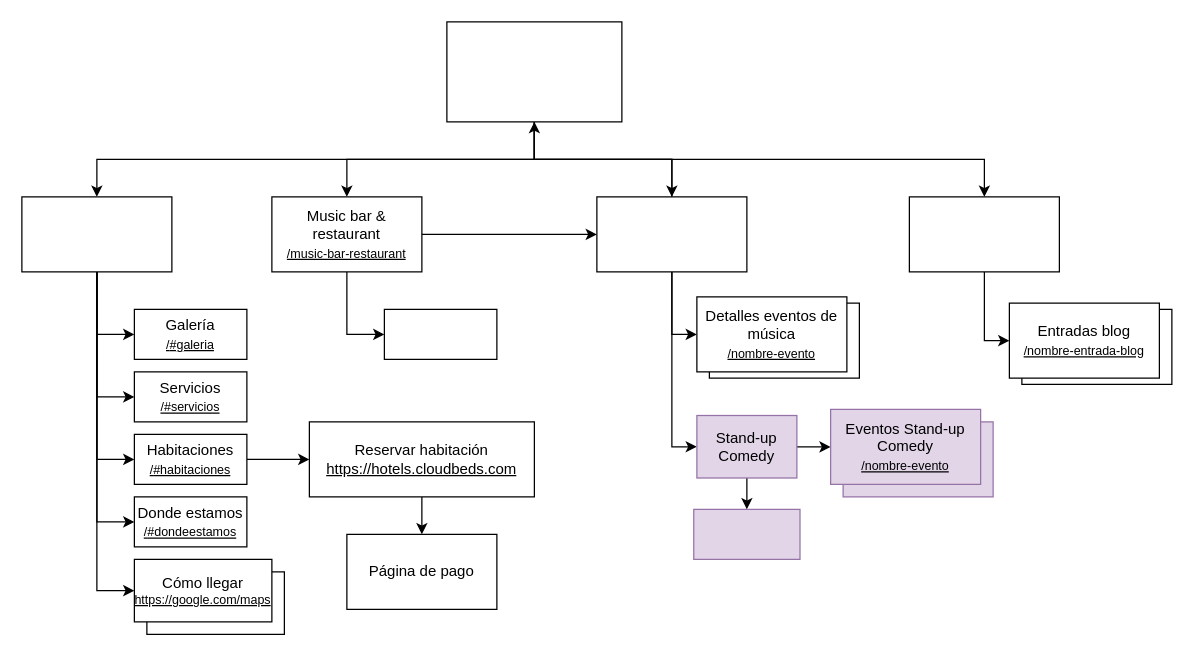
Some shapes in this 1194 by 656 pixel diagram are drawn without their labels. Here are the shapes that lost their labels. From the top down, the box of each, then its label:
(446, 21, 622, 122): Carlota Braun Menu https://www.hostel-granada.es
(21, 196, 172, 272): Hostel
(596, 196, 747, 272): Eventos /eventos
(908, 196, 1059, 272): Blog /blog
(383, 308, 497, 359): Carta /carta-menu
(692, 508, 800, 559): Inscribirse
